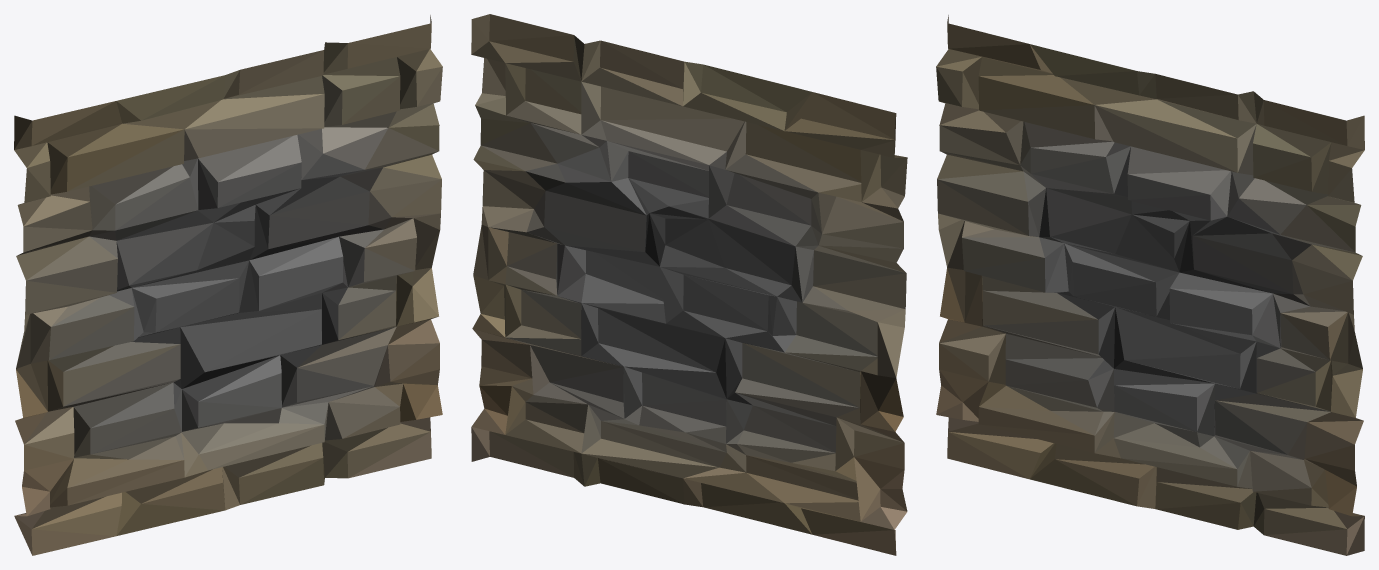
The model's file is Wall_UG-StoneB.fbx.
The picture shows the model from 3 angles, left to right: view 1: azimuth 30°, elevation 25°; view 2: azimuth 150°, elevation 25°; view 3: azimuth 330°, elevation 25°; orthographic projection.
Visible parts, largest first — view 1: Wall_UG-StoneB; view 2: Wall_UG-StoneB; view 3: Wall_UG-StoneB.
Boxes of the visible parts, x1,y1,x2,y2 form: Wall_UG-StoneB: (14, 15, 442, 555); Wall_UG-StoneB: (471, 14, 907, 555); Wall_UG-StoneB: (936, 15, 1364, 555).
Size of the model in its own units: 400 by 400 by 21.81.
